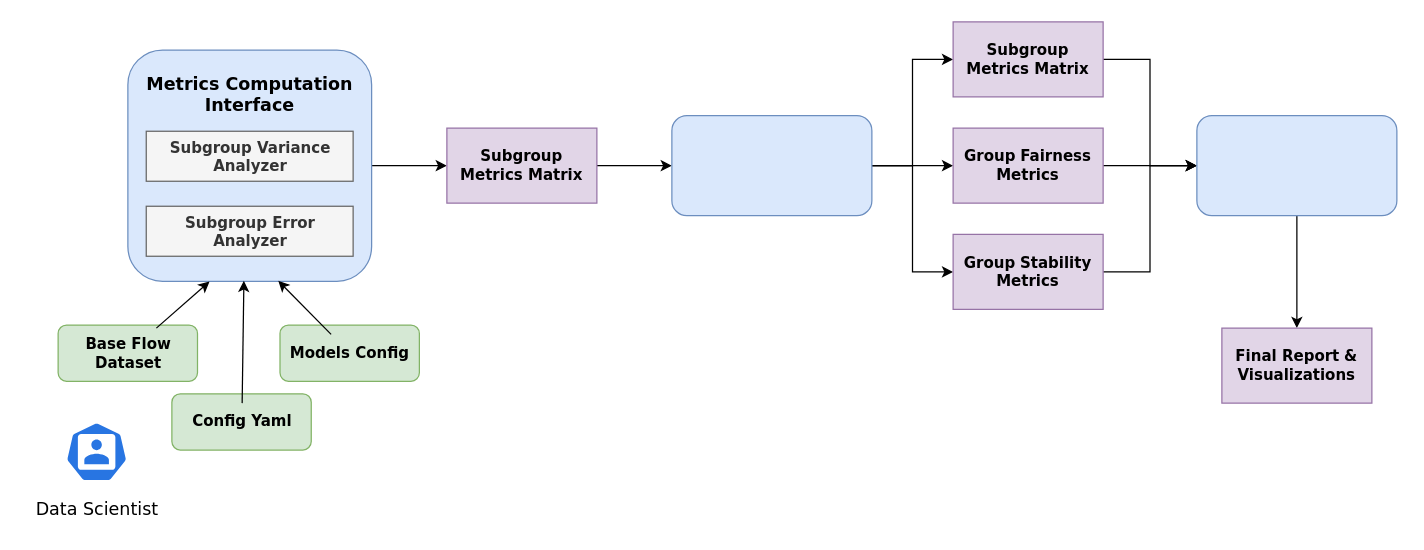
Some shapes in this 1424 by 550 pixel diagram are drawn without their labels. Here are the shapes that lost their labels. From the top down, the centre of each, then its label:
(x=771, y=165): Metrics Composer
(x=1296, y=165): Metrics Visualizer
